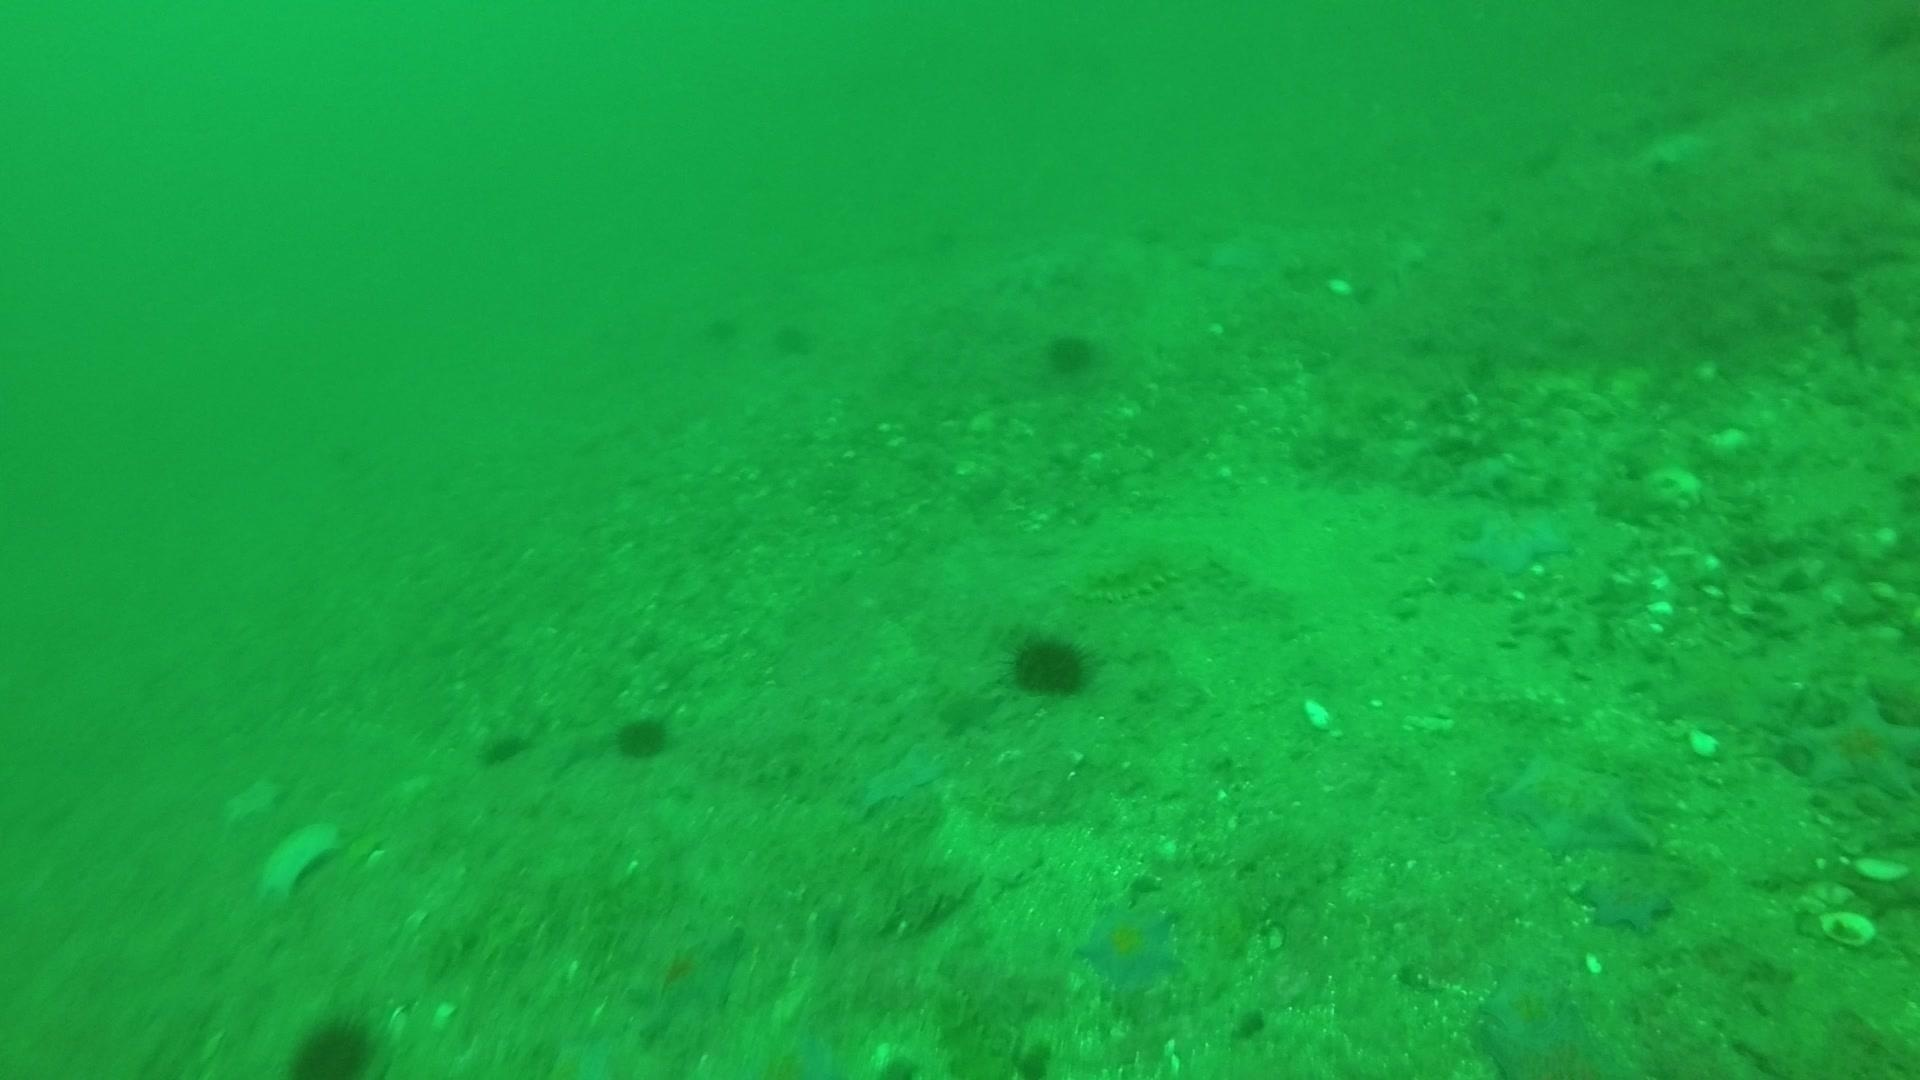echinus: (1004, 626, 1096, 702), (286, 1011, 382, 1077), (611, 708, 675, 764), (1040, 326, 1104, 381), (475, 723, 531, 769), (694, 305, 742, 349), (764, 316, 811, 361)
holothurian: (1069, 549, 1188, 609)
starfish: (1489, 742, 1658, 862), (1472, 957, 1626, 1077), (1785, 676, 1920, 804), (618, 907, 750, 1027), (1647, 636, 1799, 737), (1073, 895, 1185, 994), (1453, 502, 1577, 580), (252, 816, 347, 911), (851, 740, 947, 819), (1575, 870, 1679, 936), (1203, 223, 1294, 280), (1200, 222, 1291, 277), (218, 770, 286, 832), (931, 680, 1001, 738)
